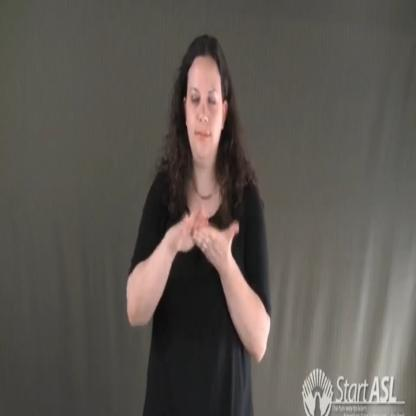NiceToMeetYou: (164, 196, 250, 286)
